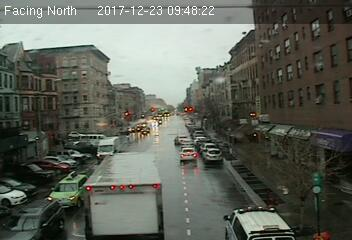car: (45, 171, 94, 210), (204, 148, 223, 162), (175, 136, 194, 148), (180, 148, 197, 161)
police: (221, 203, 301, 240)
truck: (81, 152, 166, 240), (95, 136, 120, 161)
